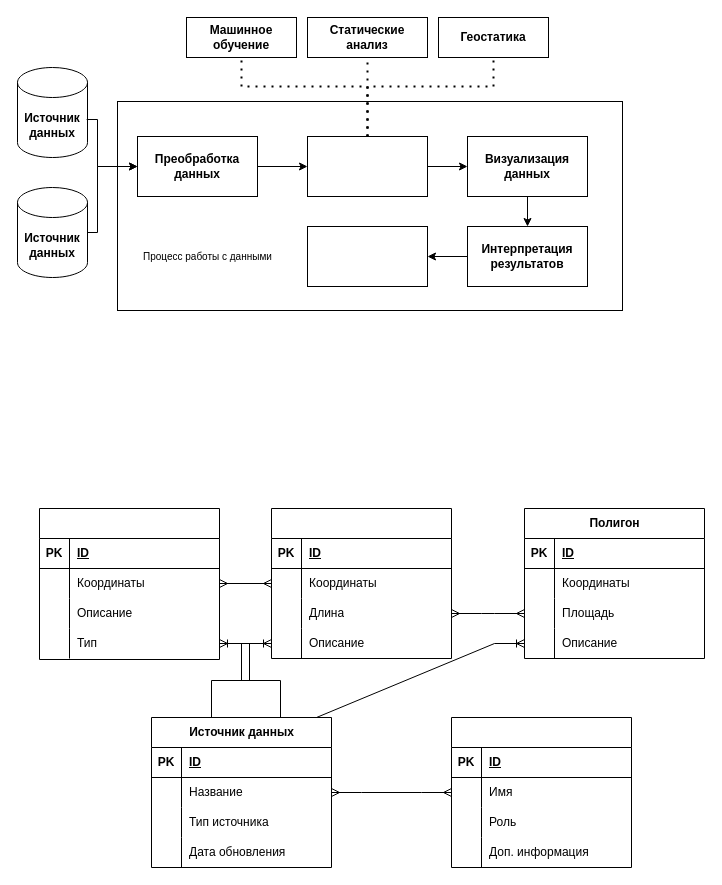
Some shapes in this 722 by 885 pixel diagram are drawn without their labels. The box of each missing label's shape, as (x1, y1, x2, y2) in pixels:
Анализ данных: (306, 136, 428, 196)
Линия: (270, 508, 452, 658)
Пользователь: (450, 716, 632, 868)
Разработка решений: (306, 226, 428, 286)
Точка: (38, 508, 220, 660)
